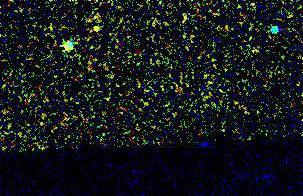star: (82, 16, 112, 46)
